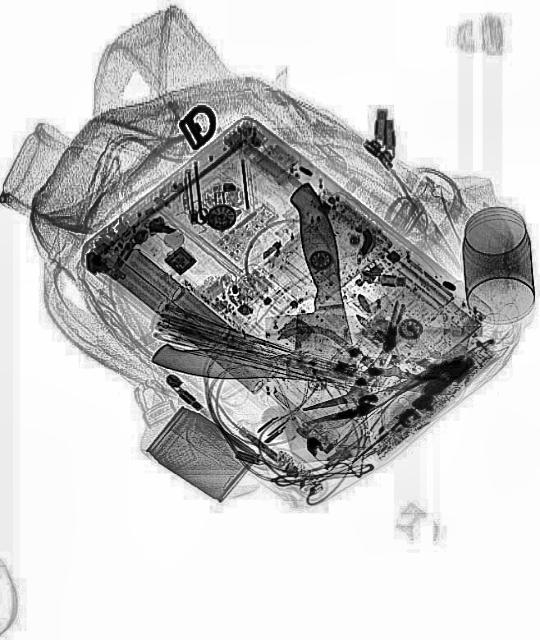Knife: (236, 178, 378, 472), (154, 302, 469, 393)
